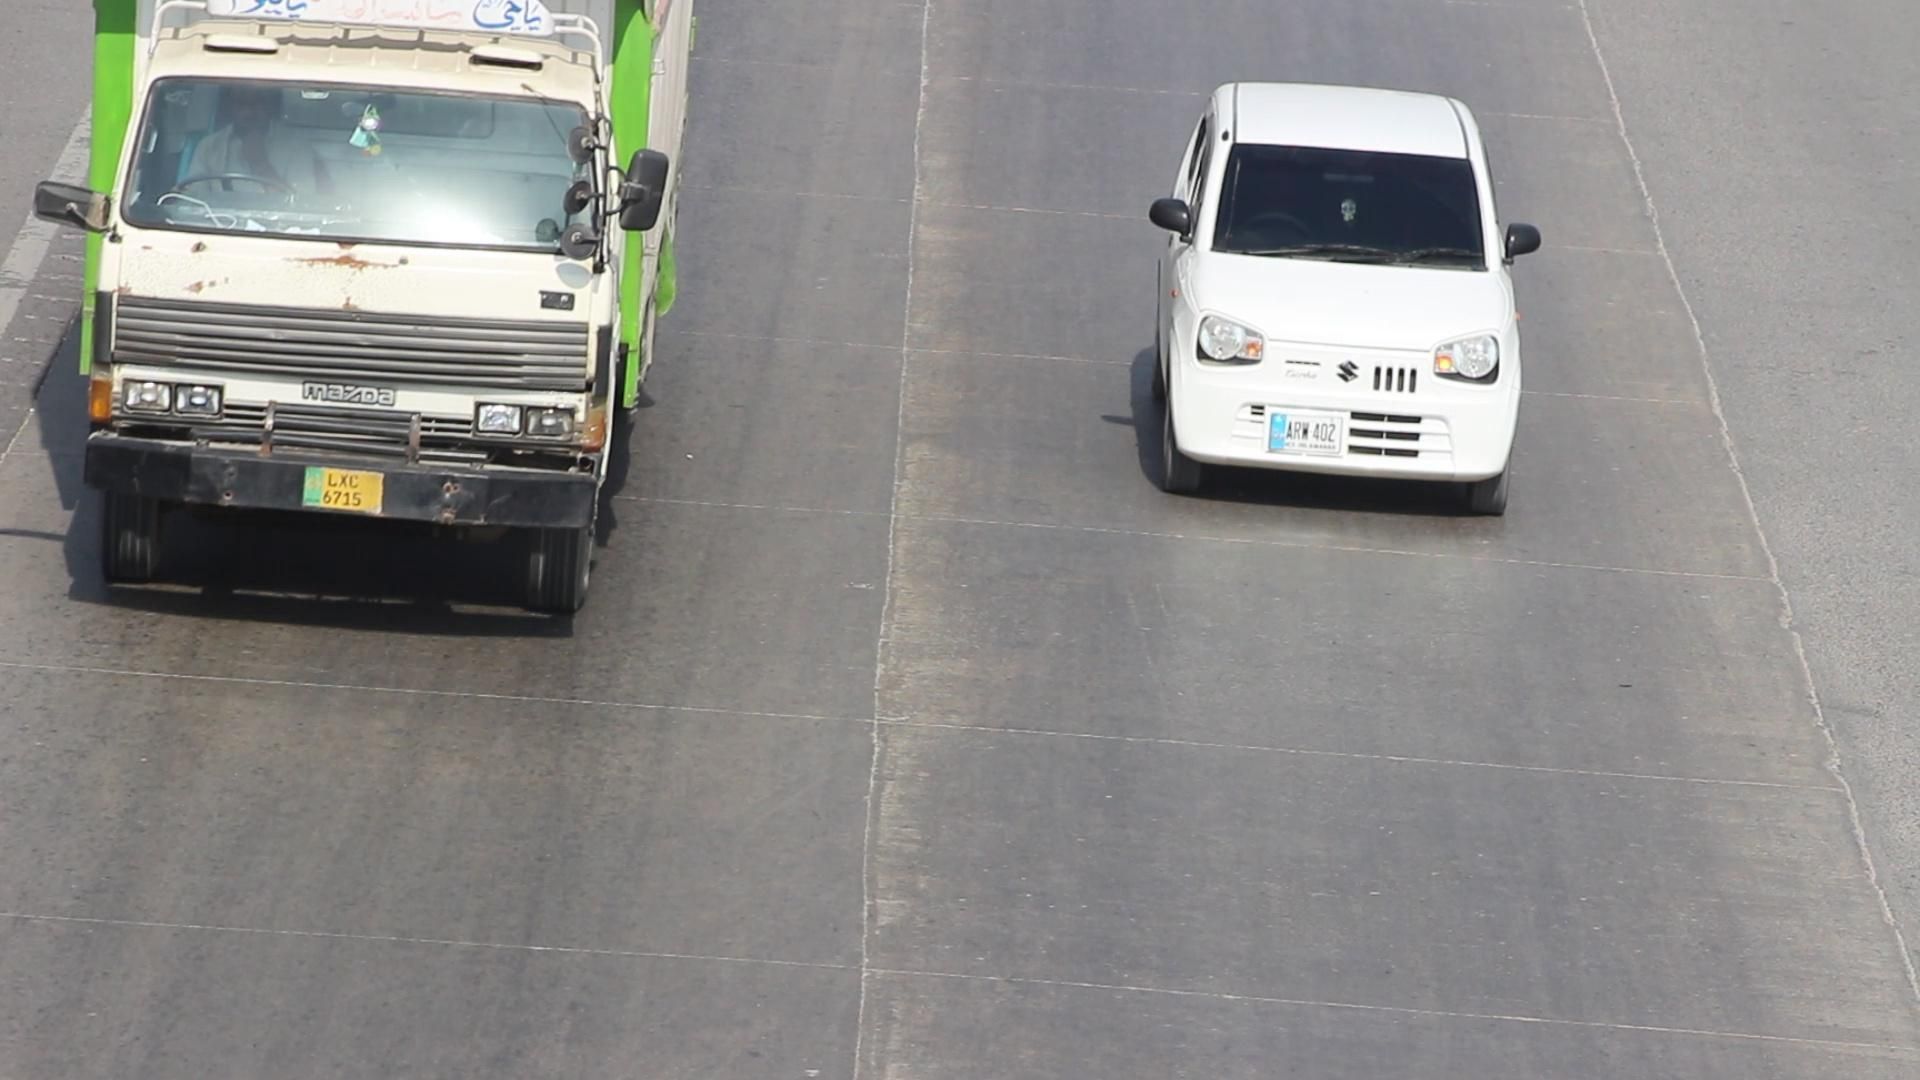windshield: (111, 70, 601, 253), (1204, 127, 1503, 273)
